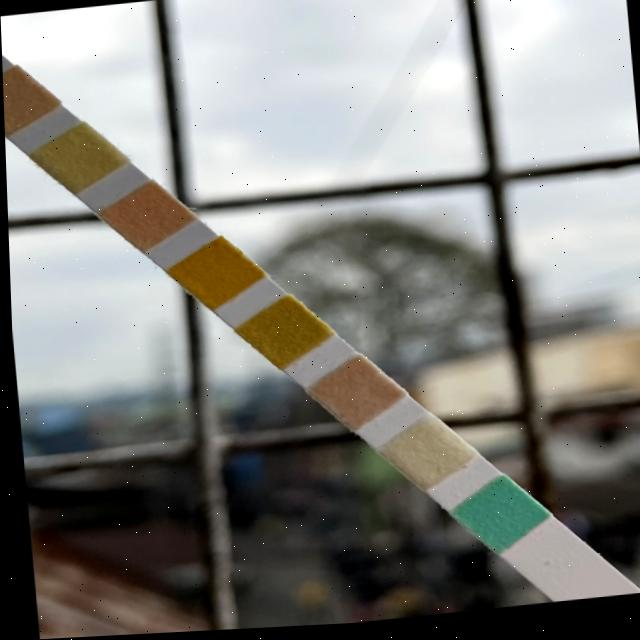Bilirubin: (392, 438, 453, 479)
Blood: (187, 257, 244, 297)
Glucose: (467, 498, 525, 543)
Ketone: (327, 377, 382, 417)
Protein: (44, 141, 108, 179)
SpGravity: (253, 318, 312, 354)
Urobilinogen: (2, 81, 40, 119)
pH: (117, 199, 175, 239)
